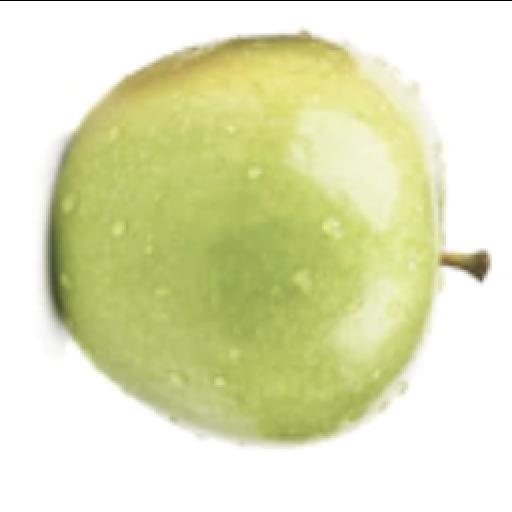apple: (54, 35, 487, 443)
